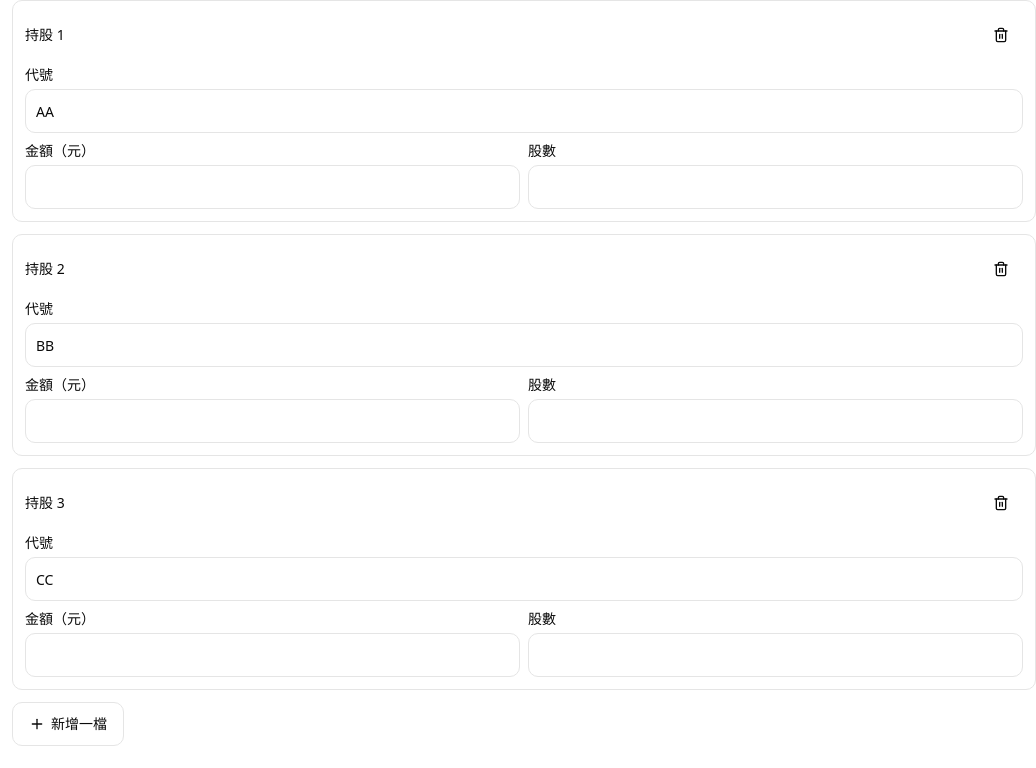
Scenario: HoldingsEditor › removes a row and saves the rest
Click the button named "移除 BB".
click(1001, 269)  # box [979,247,1023,291]
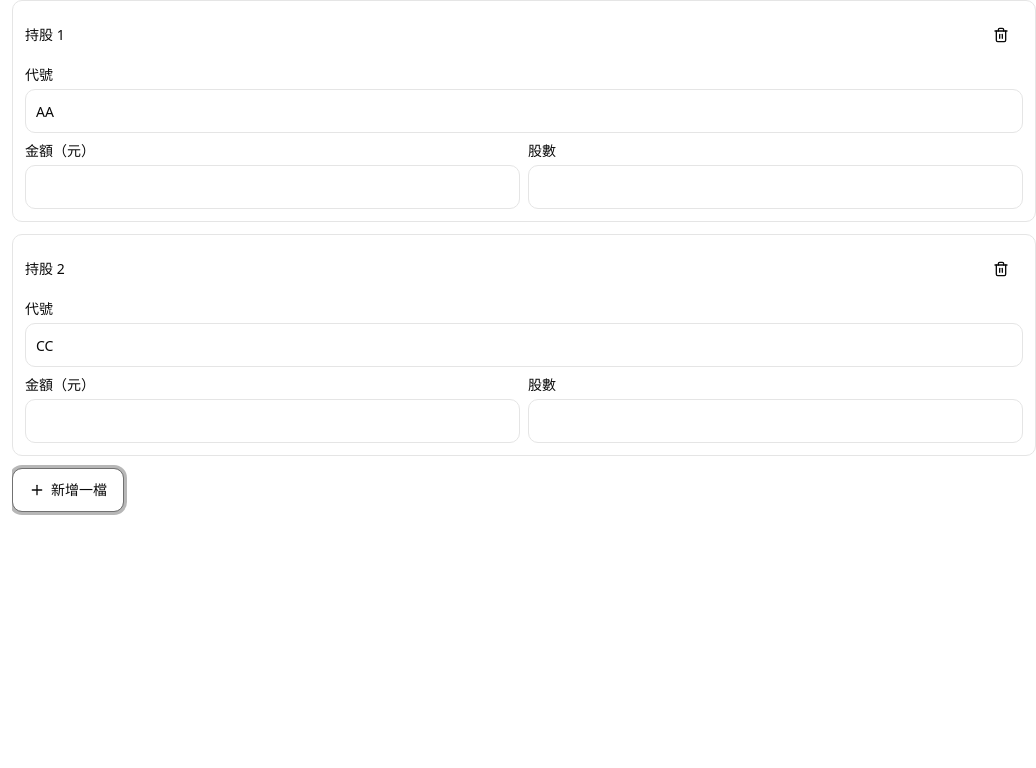
Check: the text "持股 3" is gone
